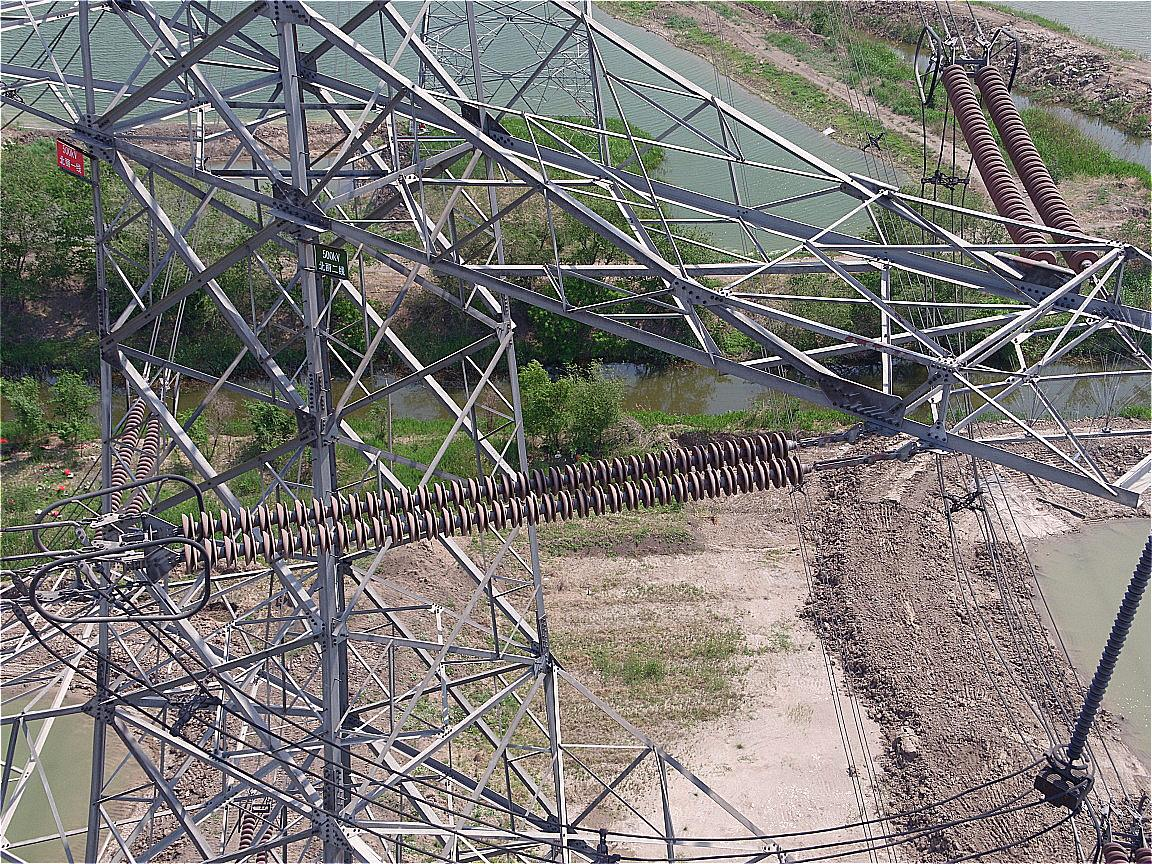insultor1: (944, 65, 1100, 272)
insultor2: (180, 432, 804, 569)
